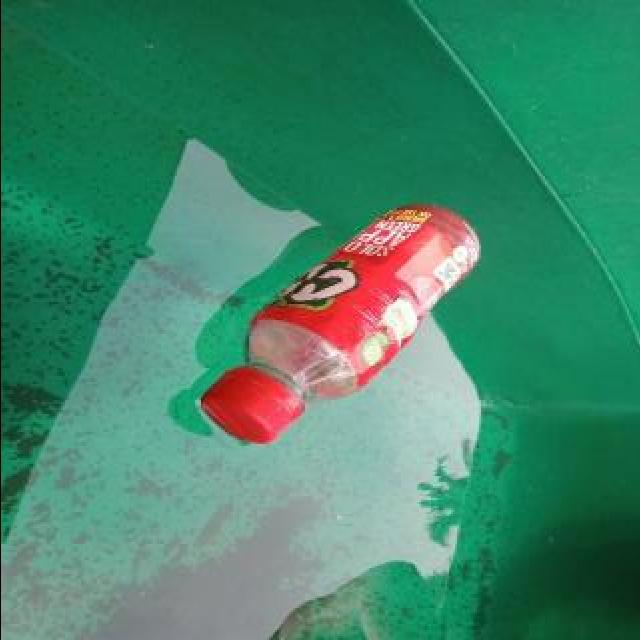Bottle: (192, 203, 484, 448)
